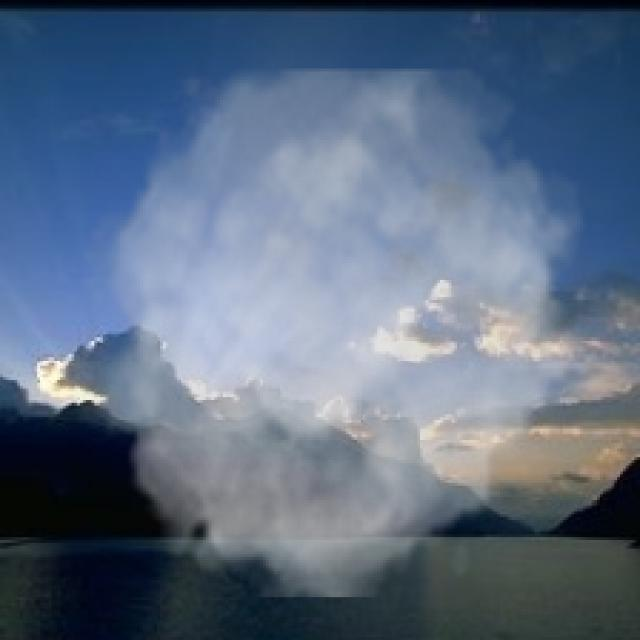Smoke: (71, 68, 603, 598)
